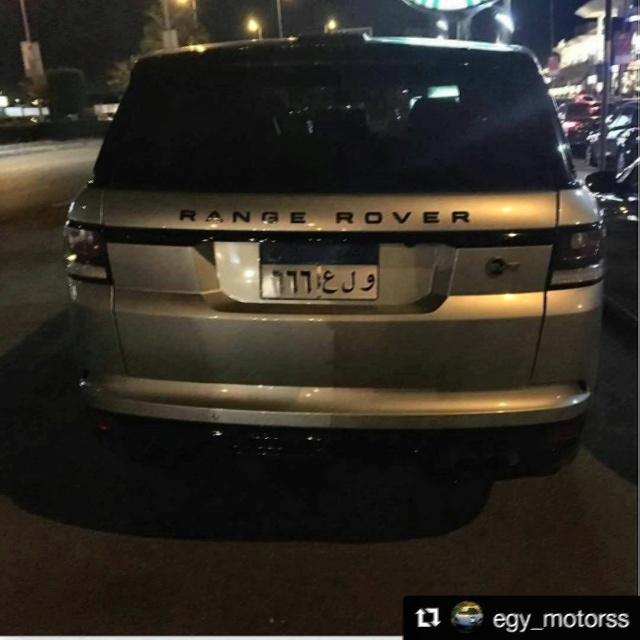License Plate: (255, 236, 382, 303)
